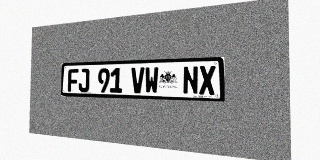1: (110, 68, 122, 93)
9: (98, 68, 110, 93)
F: (68, 69, 78, 92)
J: (78, 68, 89, 92)
N: (183, 66, 198, 94)
V: (131, 67, 144, 93)
W: (145, 67, 158, 94)
X: (199, 65, 216, 95)
